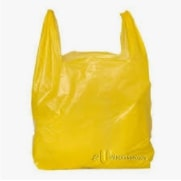kantong: (31, 8, 152, 169)
